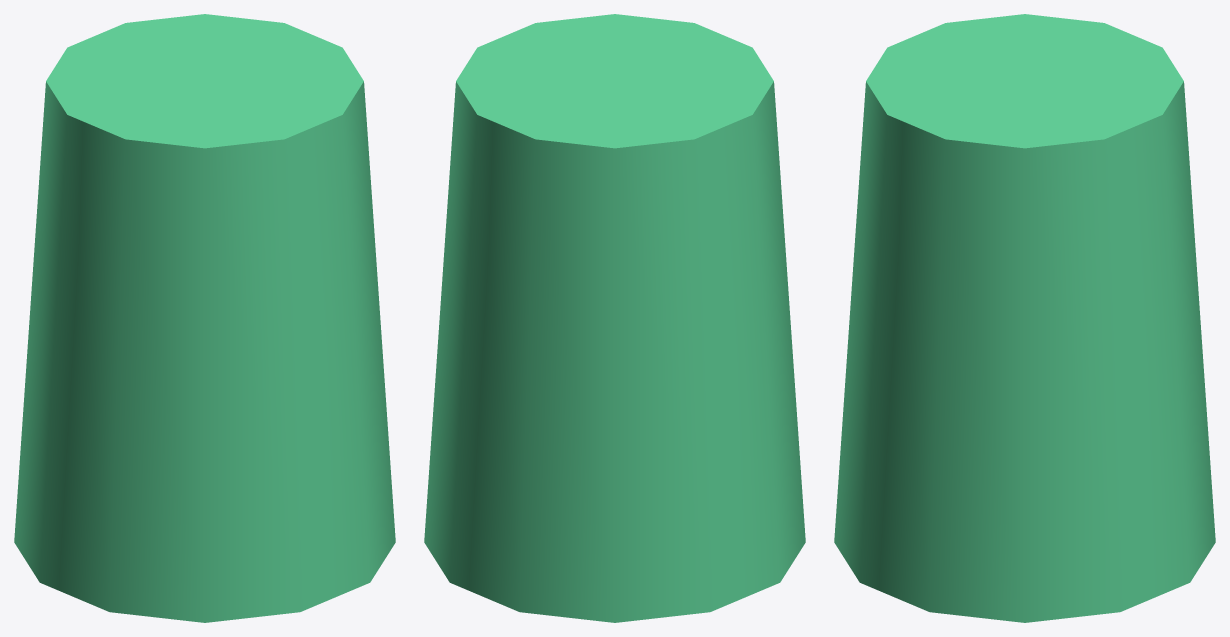
File: assembly_point.glb
3 renders of one model, left to right at view 1: azimuth 30°, elevation 25°; view 2: azimuth 150°, elevation 25°; view 3: azimuth 270°, elevation 25°, orthographic.
Visible parts, largest first — view 1: assembly_point-node; view 2: assembly_point-node; view 3: assembly_point-node.
Part boxes in pixels (x1,y1,x2,y2): assembly_point-node: [14, 14, 395, 622]; assembly_point-node: [424, 14, 805, 622]; assembly_point-node: [834, 14, 1215, 622].
Size of the model in its own units: 0.6 by 0.8 by 0.6.
